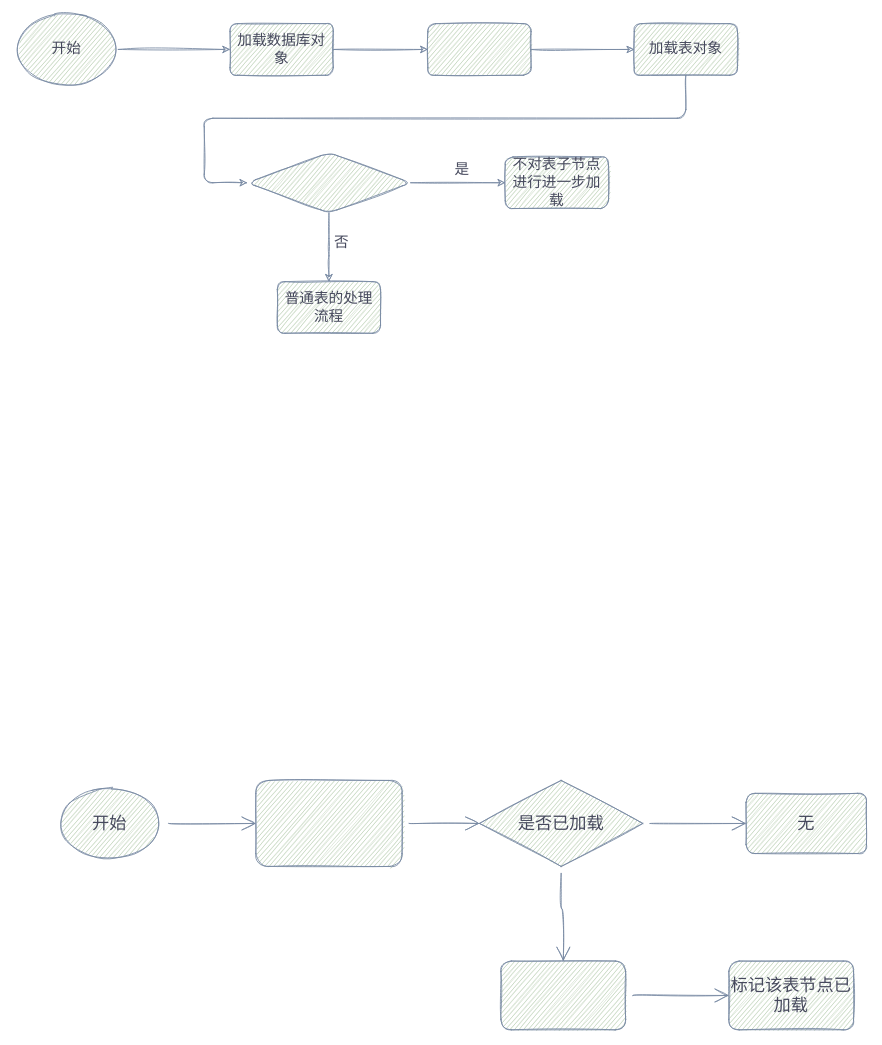
Some shapes in this 882 by 1045 pixel diagram are drawn without their labels. Here are the shapes that lost their labels. From the top down, the centre of each, then its label:
(x=479, y=49): 加载schema以及schema下的对象
(x=328, y=182): 是否是分区表类型
(x=328, y=823): 展开对象树的表节点
(x=563, y=995): 加载列、约束、分区、索引等节点的具体数据
